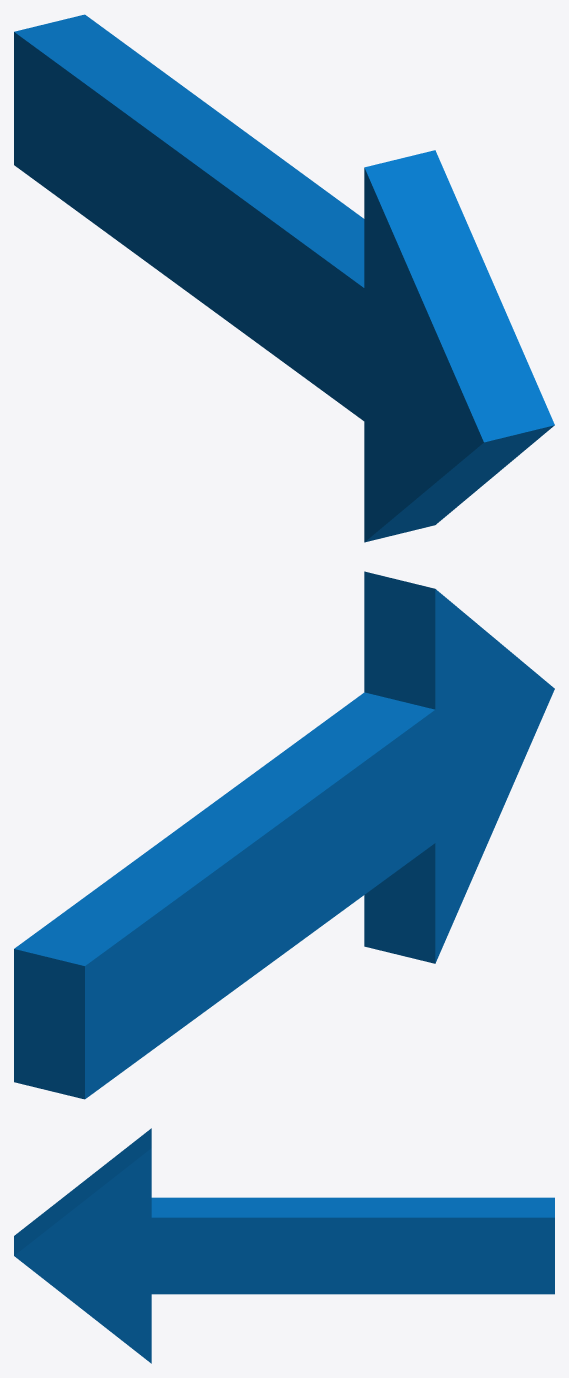
Rendered from arrow-blue.dae.
3 renders of one model, top to bottom at view 1: azimuth 30°, elevation 25°; view 2: azimuth 150°, elevation 25°; view 3: azimuth 270°, elevation 25°, orthographic. The views are drawn at different scales.
Parts seen in each view (by area): view 1: SketchUp; view 2: SketchUp; view 3: SketchUp.
Part boxes in pixels (x1,y1,x2,y2): SketchUp: (14,14,554,542); SketchUp: (14,571,554,1099); SketchUp: (14,1128,554,1363).
Bounding box in the file's own units: 1.42 × 16.26 × 7.16.
